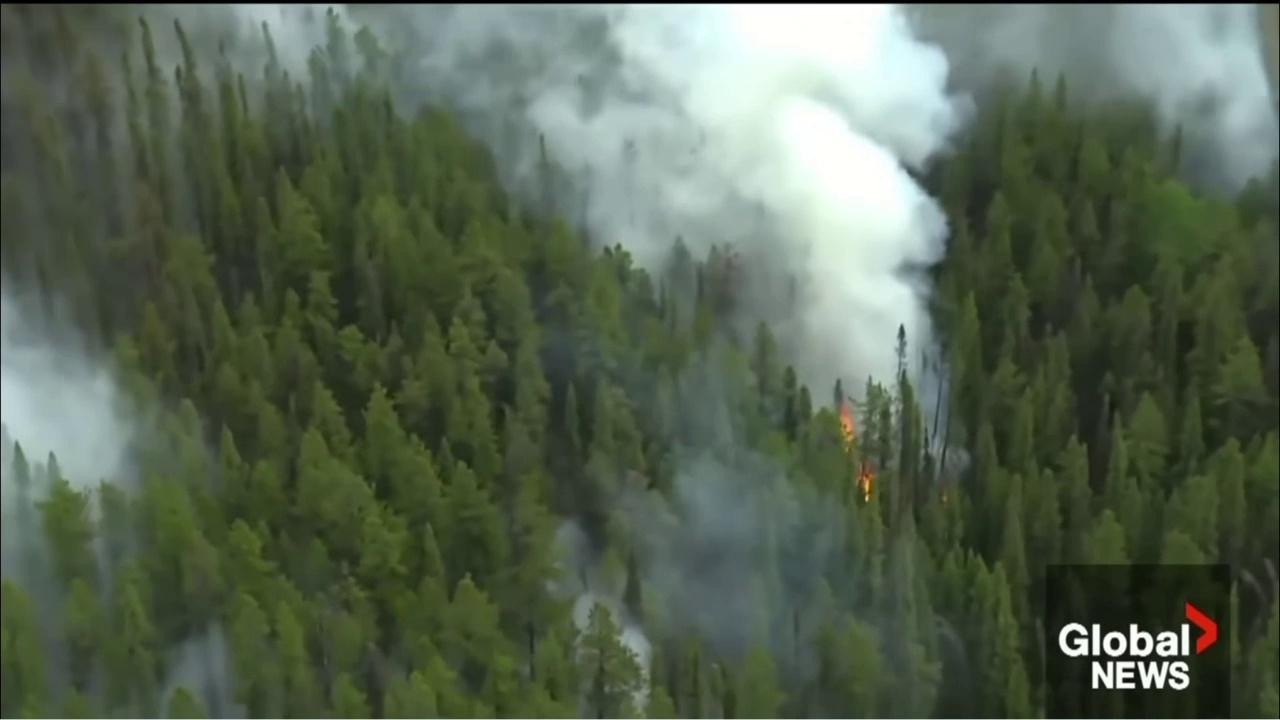fire: (828, 398, 857, 456), (851, 458, 878, 503)
smoke: (2, 2, 1280, 492), (522, 374, 973, 719), (1, 259, 267, 720)
